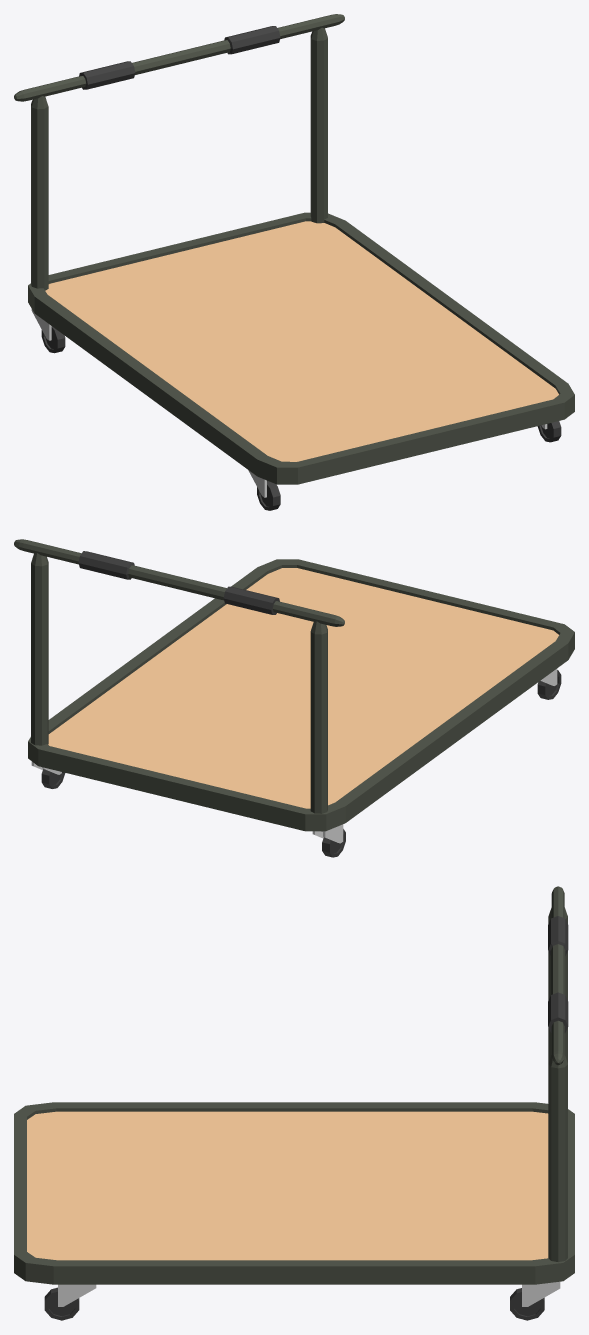
File: KarKleineMat.fbx
The picture shows the model from 3 angles, top to bottom: view 1: azimuth 30°, elevation 25°; view 2: azimuth 150°, elevation 25°; view 3: azimuth 270°, elevation 25°; orthographic projection. The views are drawn at different scales.
Visible parts, largest first — view 1: KarKleineMat; view 2: KarKleineMat; view 3: KarKleineMat.
Part boxes in pixels (bbox=[...]): KarKleineMat: bbox=[14, 14, 574, 510]; KarKleineMat: bbox=[14, 539, 574, 857]; KarKleineMat: bbox=[14, 886, 574, 1320].
Bounding box in the file's own units: 1.47 × 1.09 × 2.
